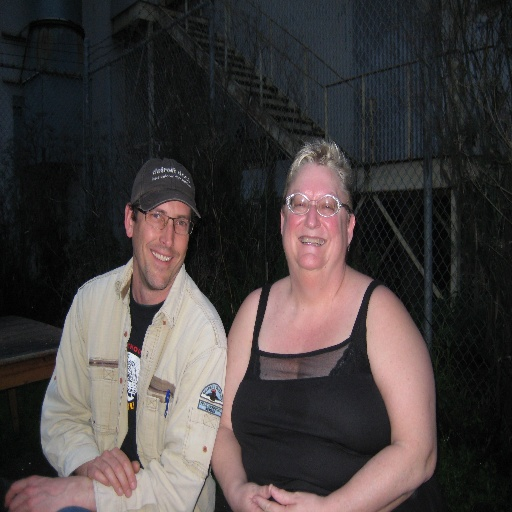hand: (86, 444, 139, 496), (4, 474, 66, 511), (250, 484, 321, 511), (229, 482, 273, 511)
